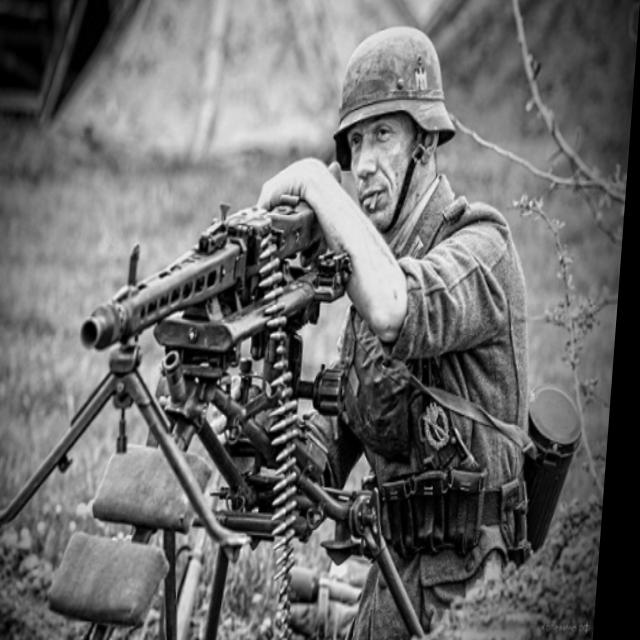other: (233, 23, 567, 629)
